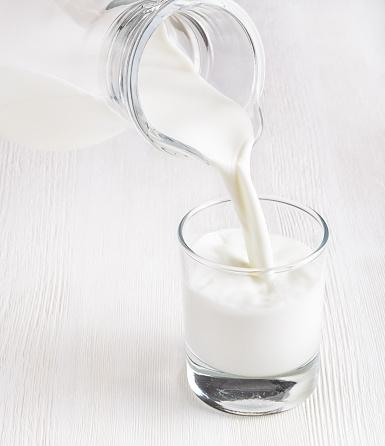produk_susu: (204, 207, 306, 367)
